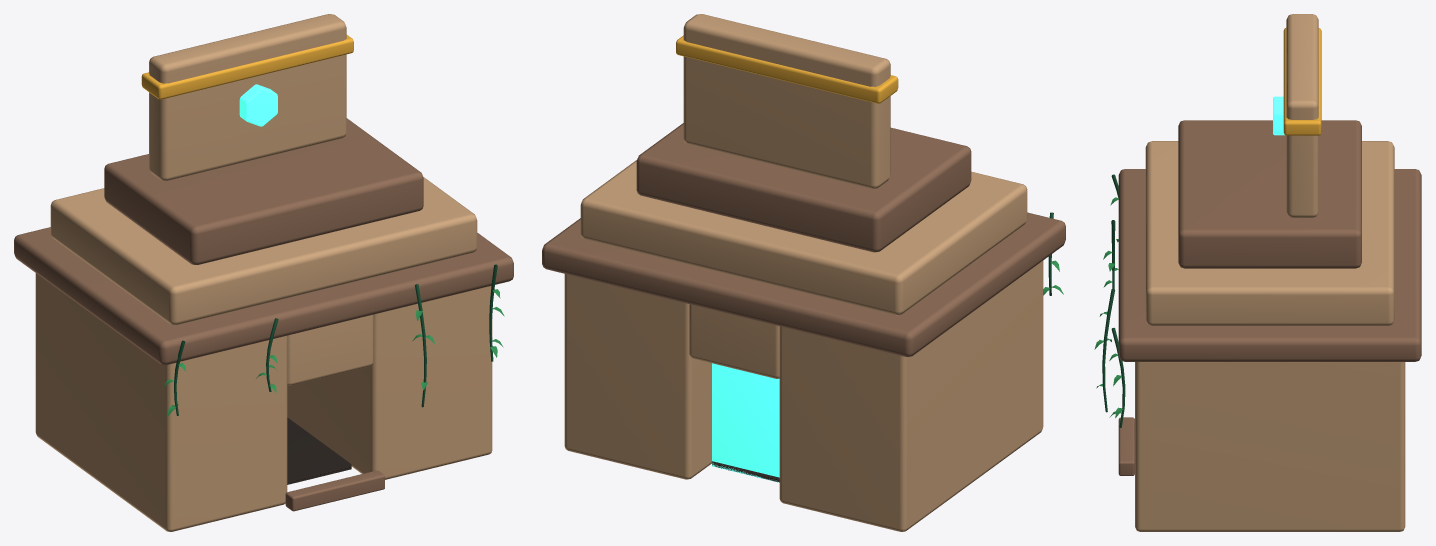
File: jungle_shrine.glb
3 views of the same model, side by side, from view 1: azimuth 30°, elevation 25°; view 2: azimuth 150°, elevation 25°; view 3: azimuth 270°, elevation 25° (orthographic). The views are drawn at different scales.
Visible parts, largest first — view 1: Shrine; view 2: Shrine; view 3: Shrine.
Part boxes in pixels (bbox=[...]): Shrine: bbox=[14, 14, 513, 531]; Shrine: bbox=[542, 14, 1065, 531]; Shrine: bbox=[1094, 14, 1421, 531].
Size of the model in its own units: 7.6 by 8.1 by 6.05.
